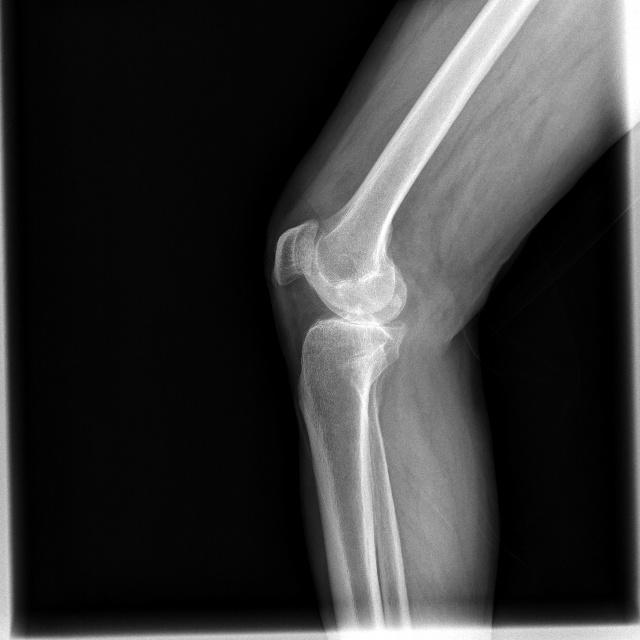Knee: (272, 218, 408, 375)
